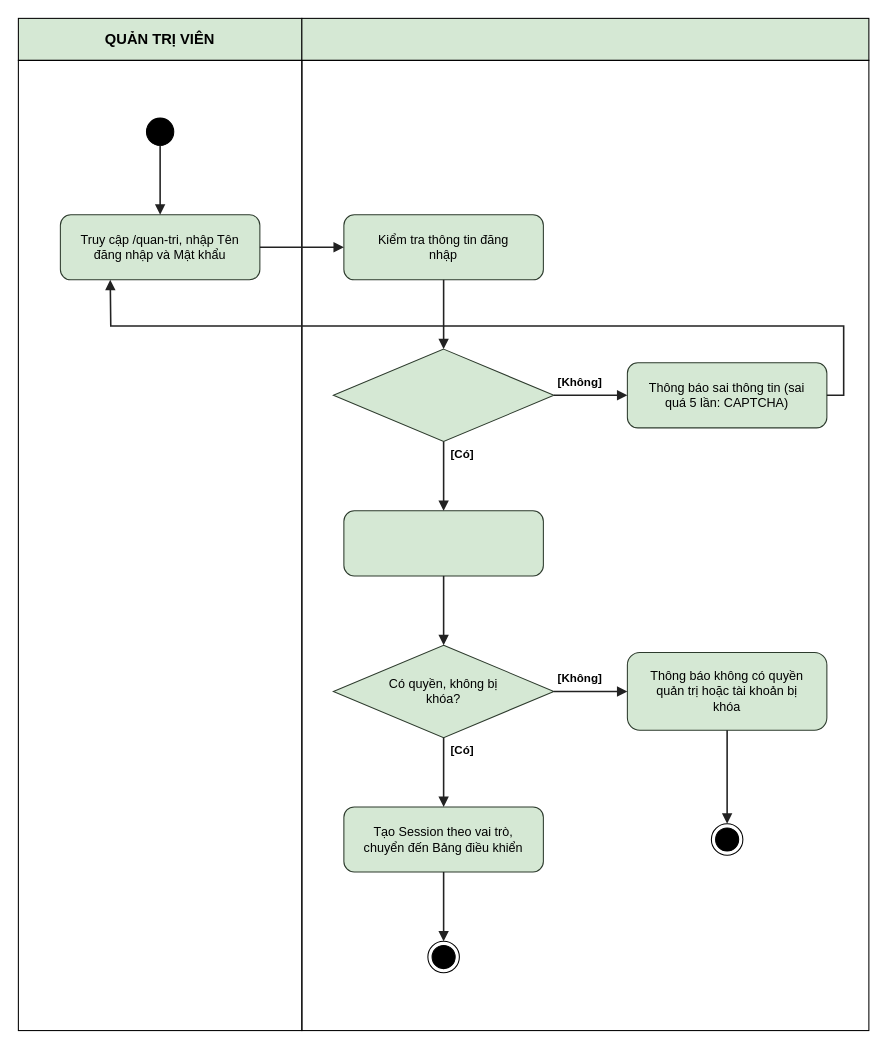
Image size: 887x1049. Some labels were removed from this diagram. The shapes that lost their labels are listed below. From the top down, each one's centre as x and y in pixels, then its label:
At (585,38): "HỆ THỐNG".
At (443,395): "Thông tin đăng nhập đúng?".
At (443,543): "Kiểm tra quyền và trạng thái tài khoản".
